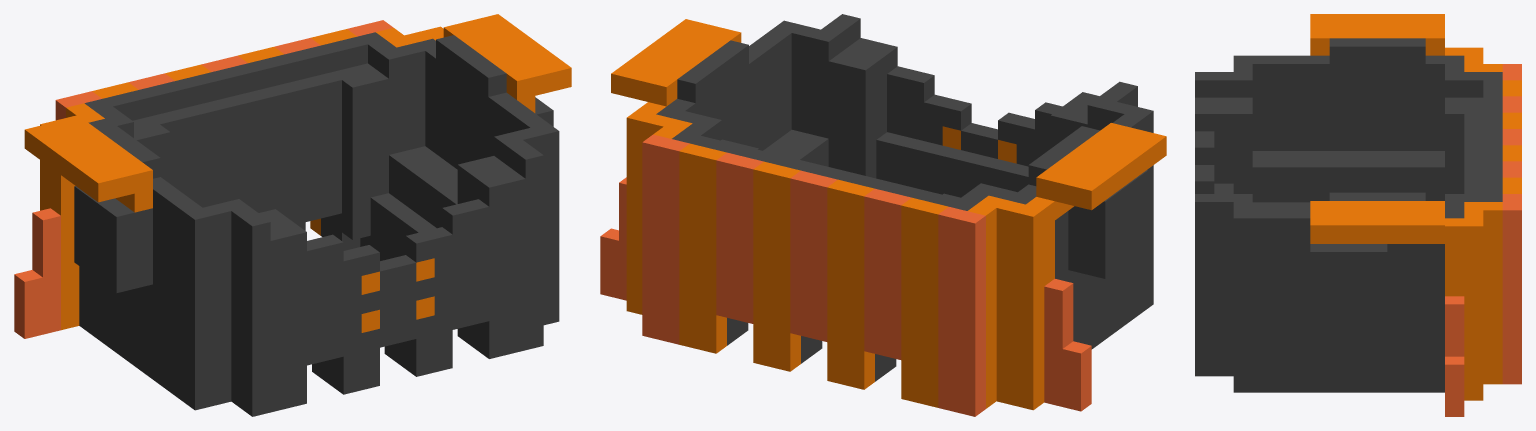
3 views of the same model, side by side, from view 1: azimuth 30°, elevation 25°; view 2: azimuth 150°, elevation 25°; view 3: azimuth 270°, elevation 25° (orthographic). The views are drawn at different scales.
Visible parts, largest first — view 1: 102; view 2: 102; view 3: 102.
Boxes of the visible parts, <box> form: 102: <box>14,14,571,416</box>; 102: <box>600,14,1166,416</box>; 102: <box>1195,14,1521,416</box>.
Size of the model in its own units: 2.6 by 1.1 by 1.7.
Materials: 1 (1 with a texture image).
